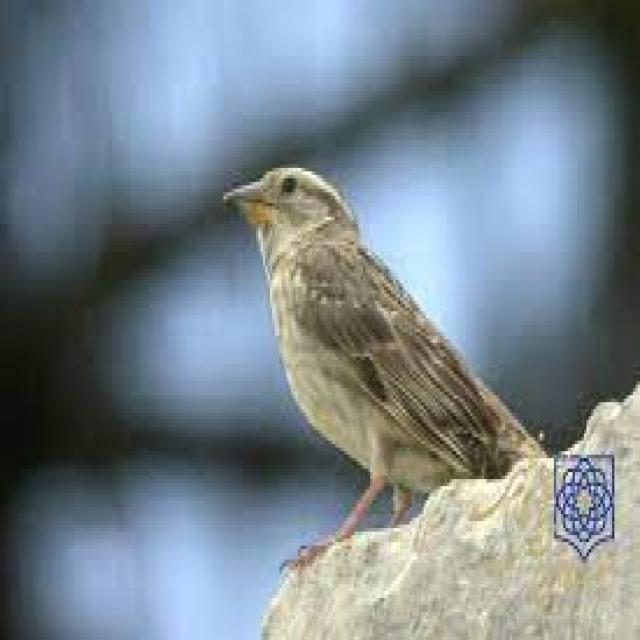bird: (221, 153, 555, 578)
